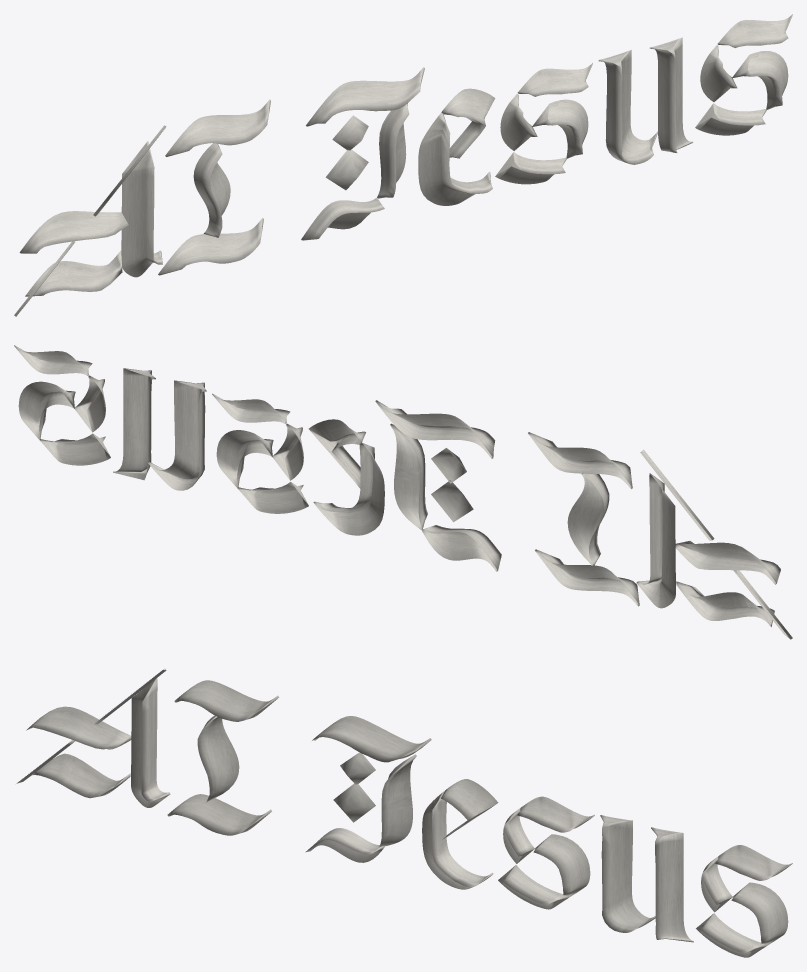
File: titles32.glb
3 renders of one model, top to bottom at view 1: azimuth 30°, elevation 25°; view 2: azimuth 150°, elevation 25°; view 3: azimuth 330°, elevation 25°, orthographic.
Parts seen in each view (by area): view 1: A, J, I, U, S2, S, E; view 2: J, A, U, I, S, S2, E; view 3: A, J, U, I, S, S2, E.
Part boxes in pixels (x1,y1,x2,y2): A: (14, 125, 166, 316); J: (301, 67, 424, 240); I: (158, 99, 270, 275); U: (598, 37, 692, 164); S2: (695, 14, 792, 135); S: (495, 63, 592, 184); E: (418, 88, 495, 205); J: (375, 400, 501, 571); A: (636, 450, 792, 639); U: (113, 368, 206, 490); I: (528, 432, 639, 606); S: (212, 393, 308, 513); S2: (14, 345, 110, 465); E: (308, 419, 384, 535); A: (16, 668, 170, 807); J: (305, 716, 431, 862); U: (600, 815, 693, 942); I: (167, 680, 279, 835); S: (498, 796, 594, 909); S2: (696, 845, 792, 957); E: (422, 779, 498, 889).
Size of the model in its own units: 0.4169 by 0.0783 by 0.0116.
Materials: 1 (1 with a texture image).
